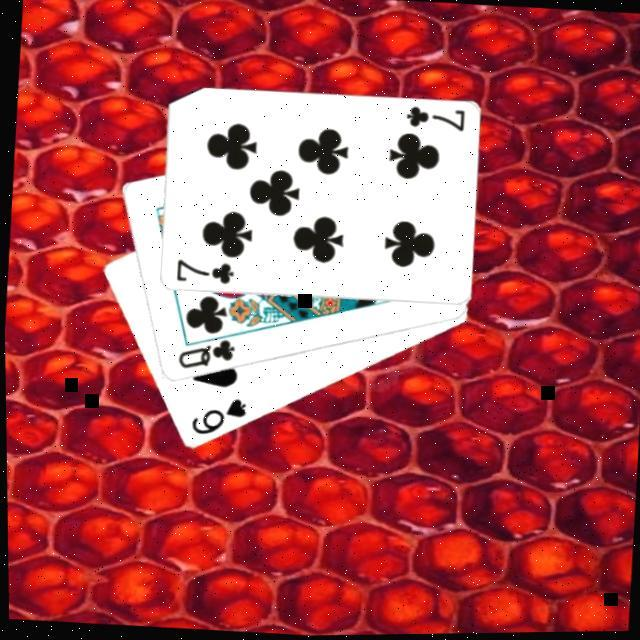6S: (186, 393, 250, 442)
7C: (402, 104, 468, 137), (172, 256, 236, 289)
QC: (172, 334, 238, 377)
